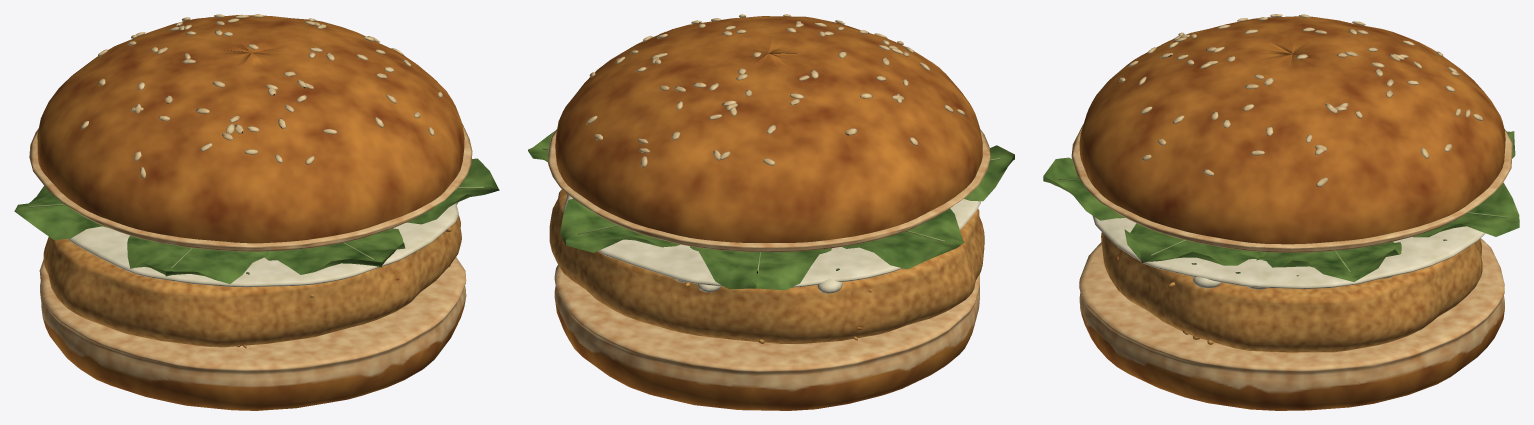
The model's file is fish_burger.glb.
3 renders of one model, left to right at view 1: azimuth 30°, elevation 25°; view 2: azimuth 150°, elevation 25°; view 3: azimuth 270°, elevation 25°, orthographic.
Parts seen in each view (by area): view 1: fish_burger.004; view 2: fish_burger.004; view 3: fish_burger.004.
Part boxes in pixels (x1,y1,x2,y2): fish_burger.004: (14,14,499,410); fish_burger.004: (528,14,1014,410); fish_burger.004: (1043,14,1519,410).
Size of the model in its own units: 0.1598 by 0.1046 by 0.1567.
1 material, 1 textured.
